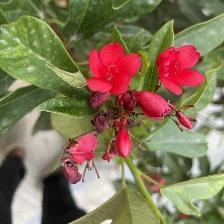jatropha: (86, 43, 144, 98), (156, 44, 207, 97)
